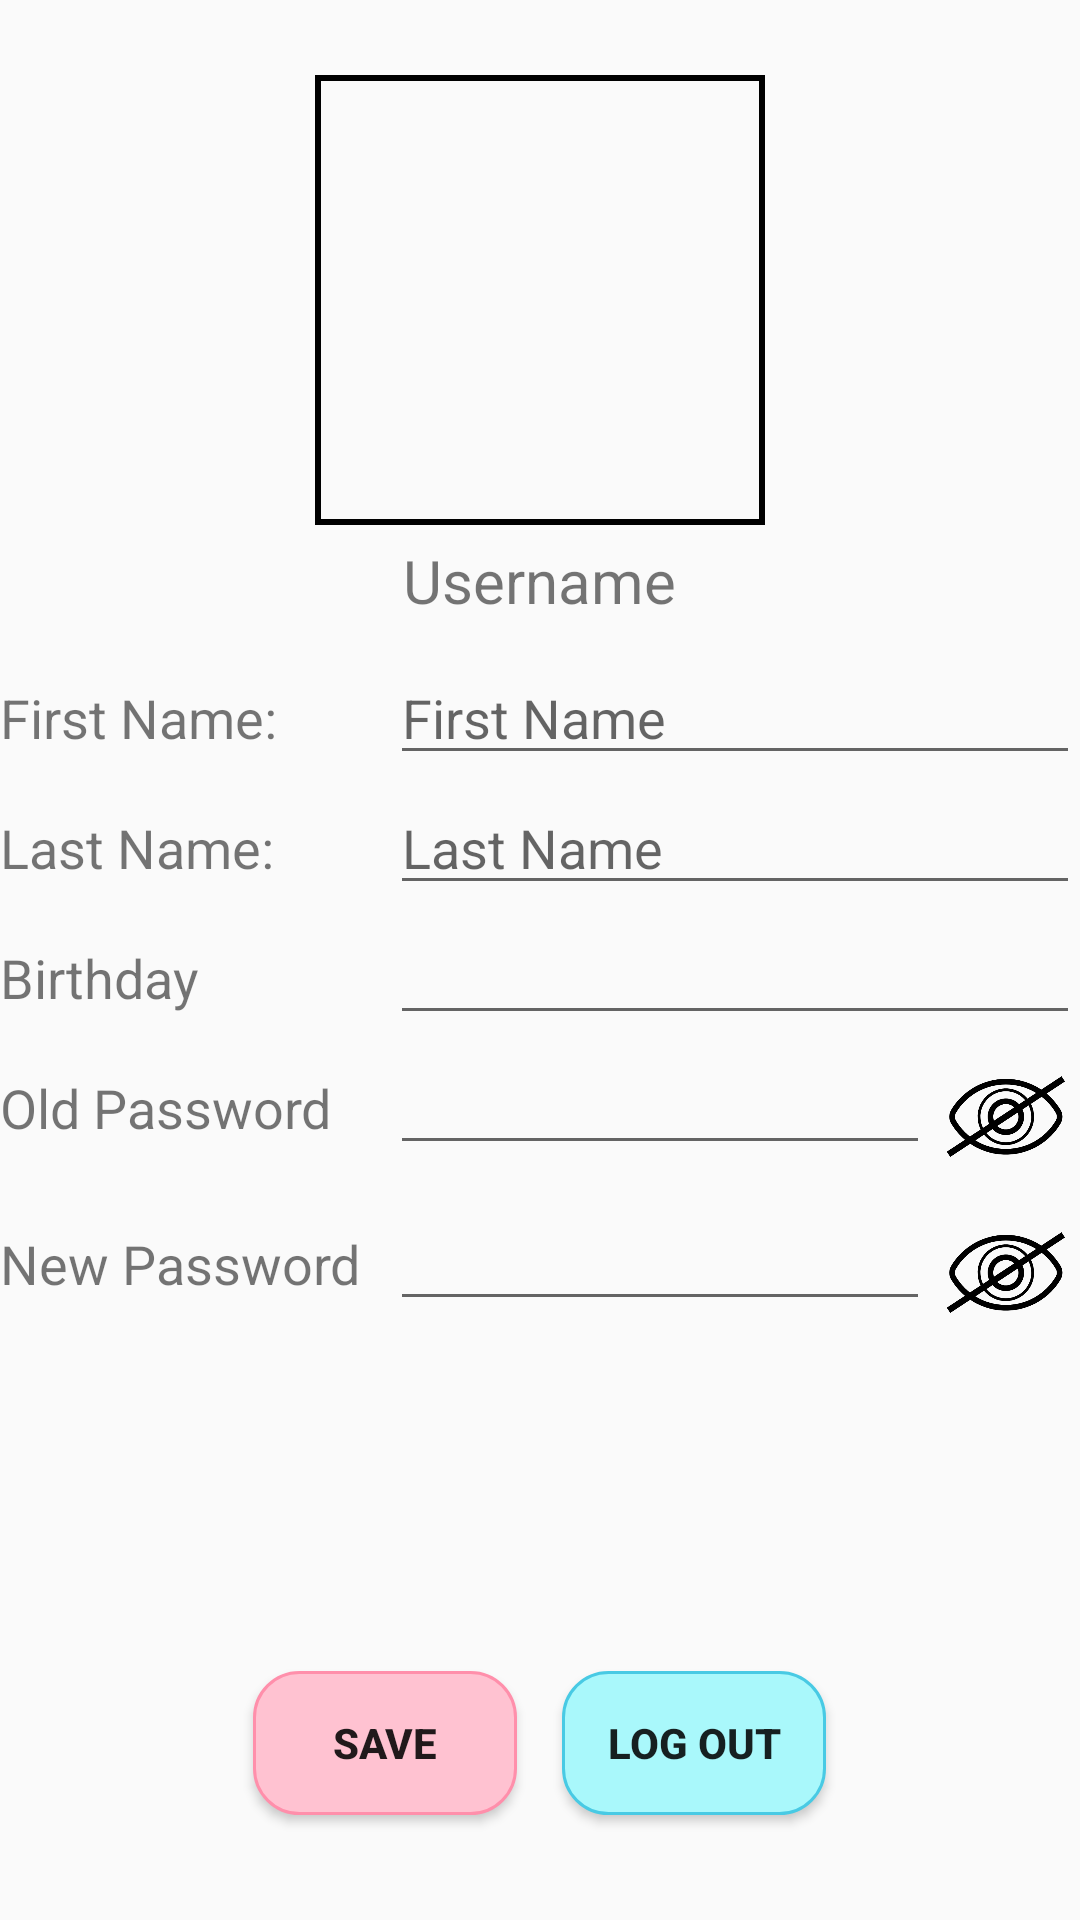

Icon bounding boxes for this 1080 x 1920 phone screenshot, format box=[x1, y1, x2, y2]:
eye closed: box=[947, 1076, 1065, 1157], box=[947, 1232, 1065, 1313]
